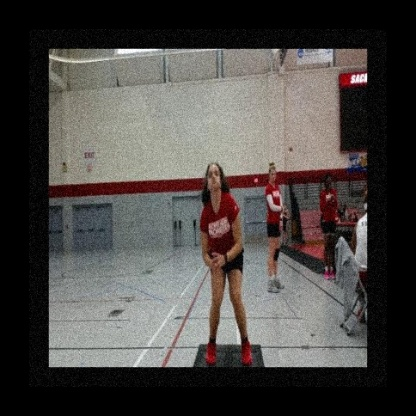lateral_flexion_right: (199, 159, 254, 367)
stance_width_broad: (199, 190, 254, 367)
